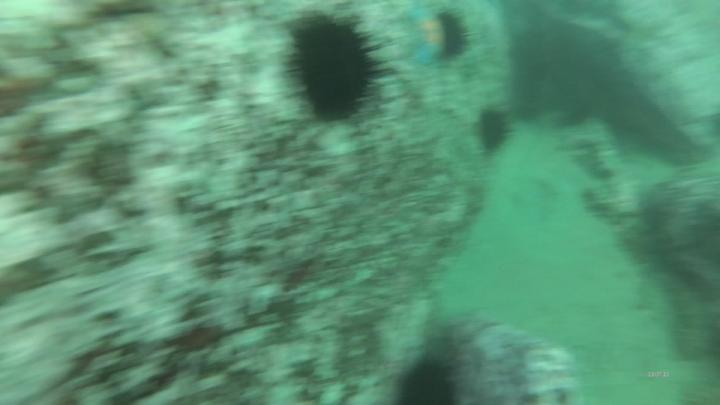echinus: (288, 14, 387, 126), (400, 355, 460, 405), (442, 11, 475, 66), (477, 108, 513, 157)
starfish: (406, 3, 449, 70)
